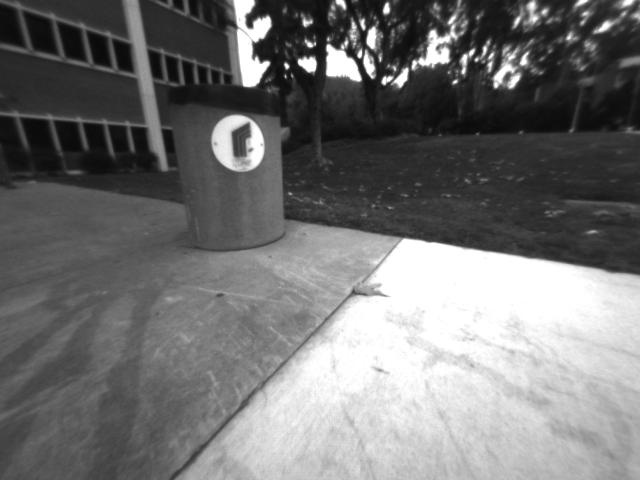trashcan: (165, 82, 301, 252)
